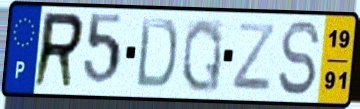5: (81, 12, 125, 93)
D: (134, 16, 180, 92)
Q: (179, 16, 225, 95)
R: (30, 10, 87, 91)
S: (276, 19, 323, 98)
Z: (230, 20, 277, 94)
